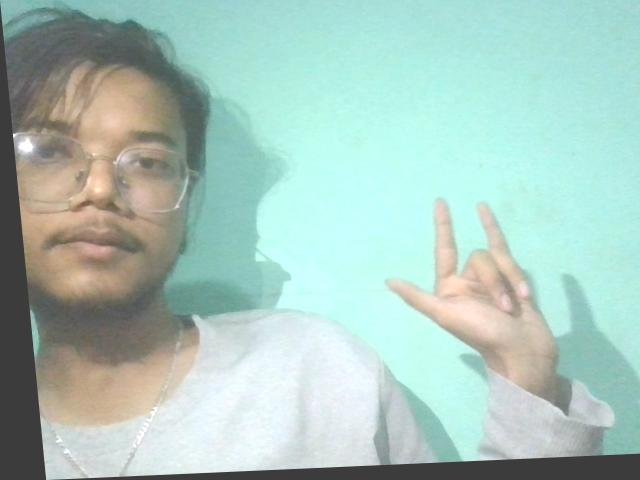I Love You: (350, 182, 582, 396)
